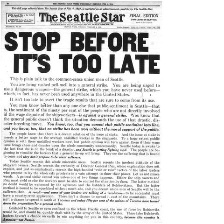news_paper: (0, 0, 162, 224)
